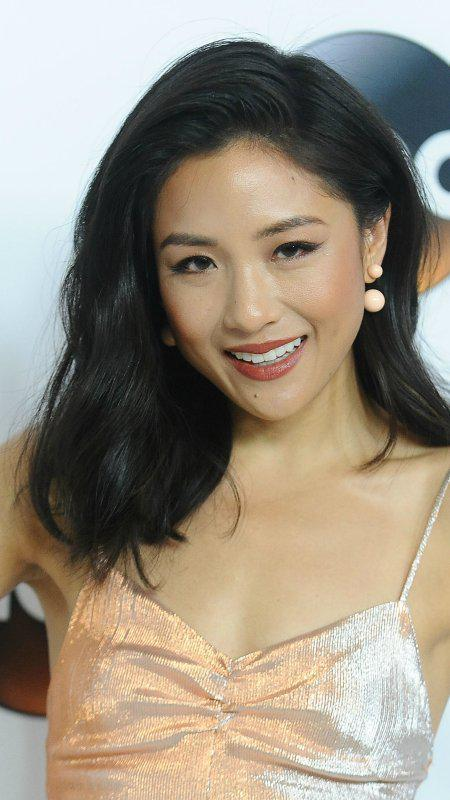Sober: (157, 159, 358, 414)
